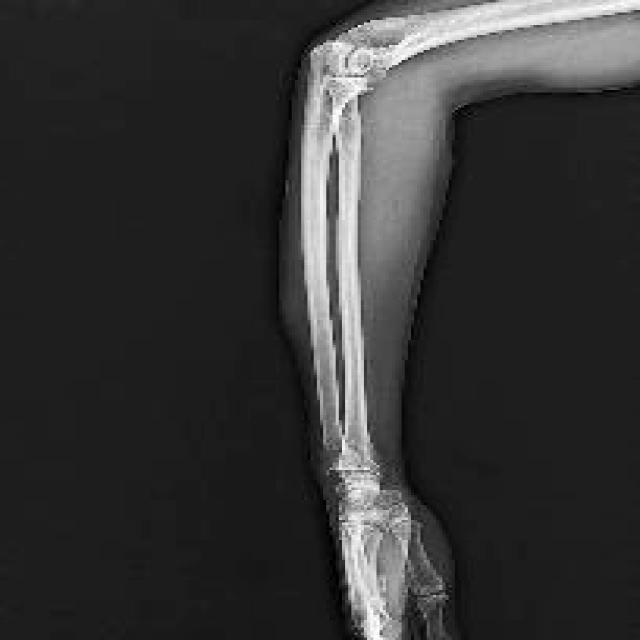normal: (295, 0, 638, 640)
